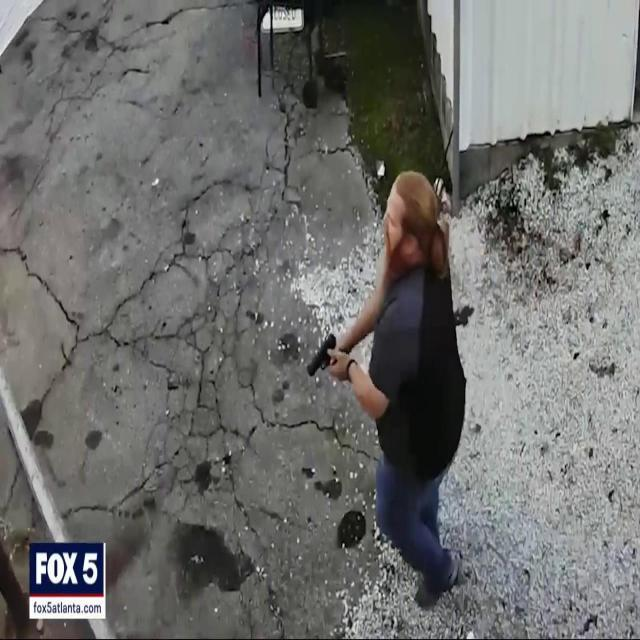pistol: (298, 318, 356, 389)
